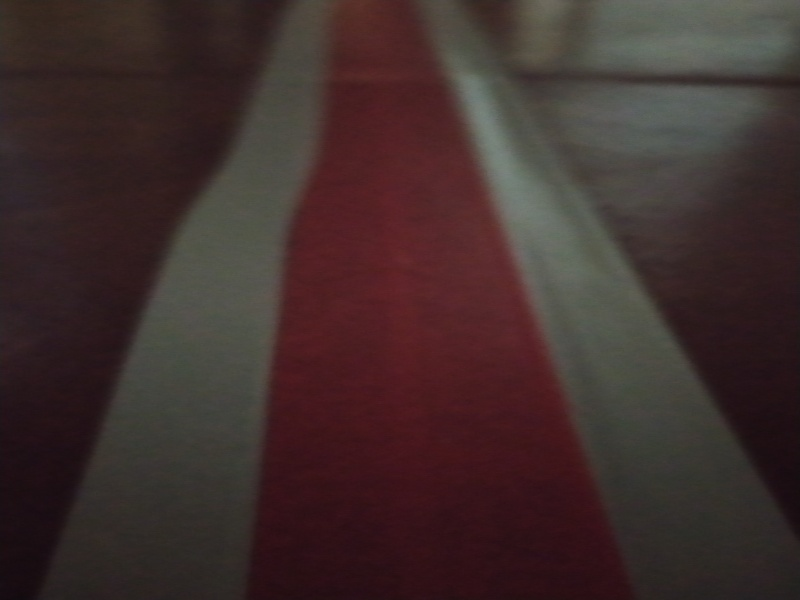reta: (67, 6, 788, 600)
